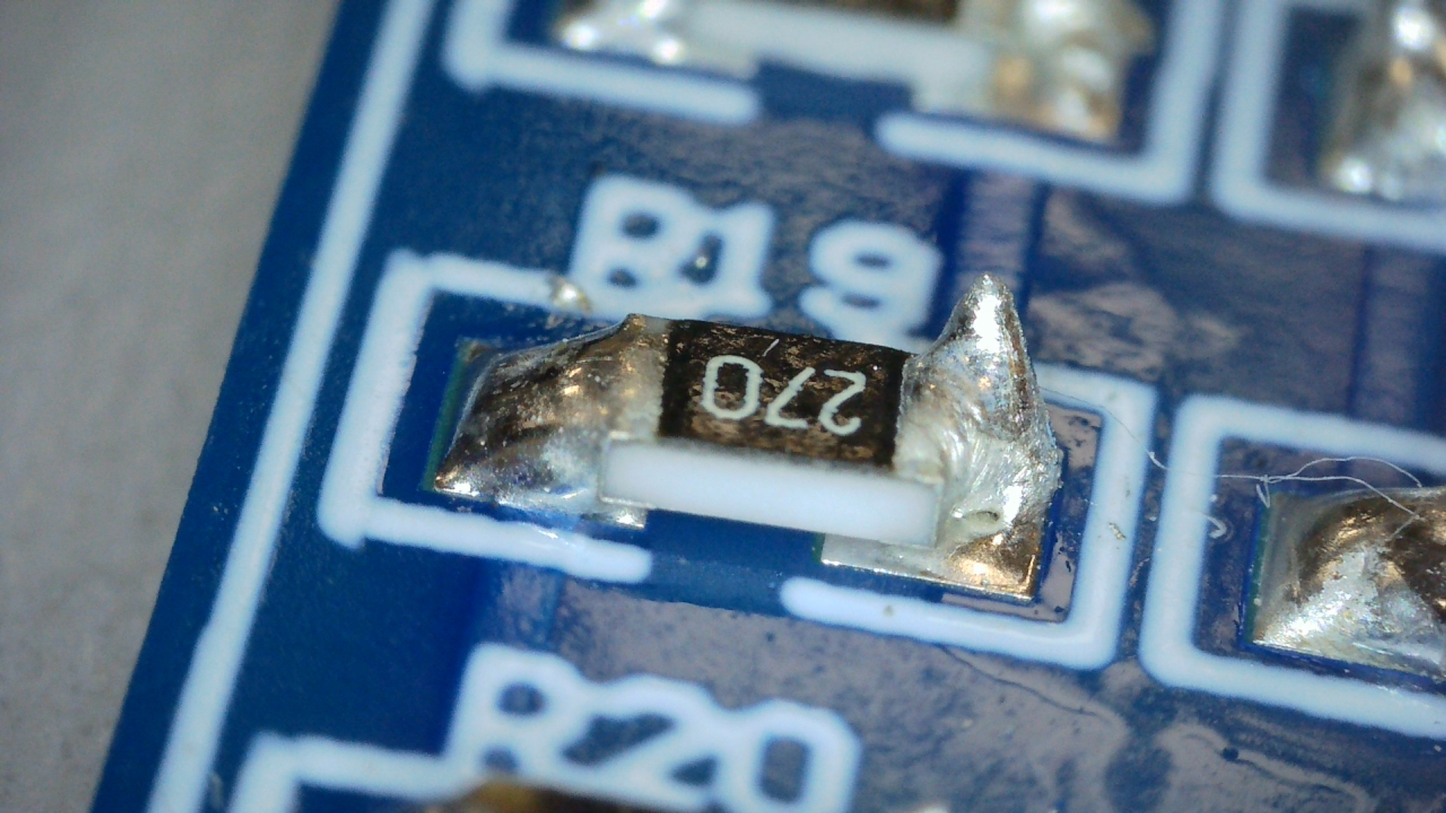NG: (899, 272, 1060, 529)
OK: (437, 314, 669, 510)
